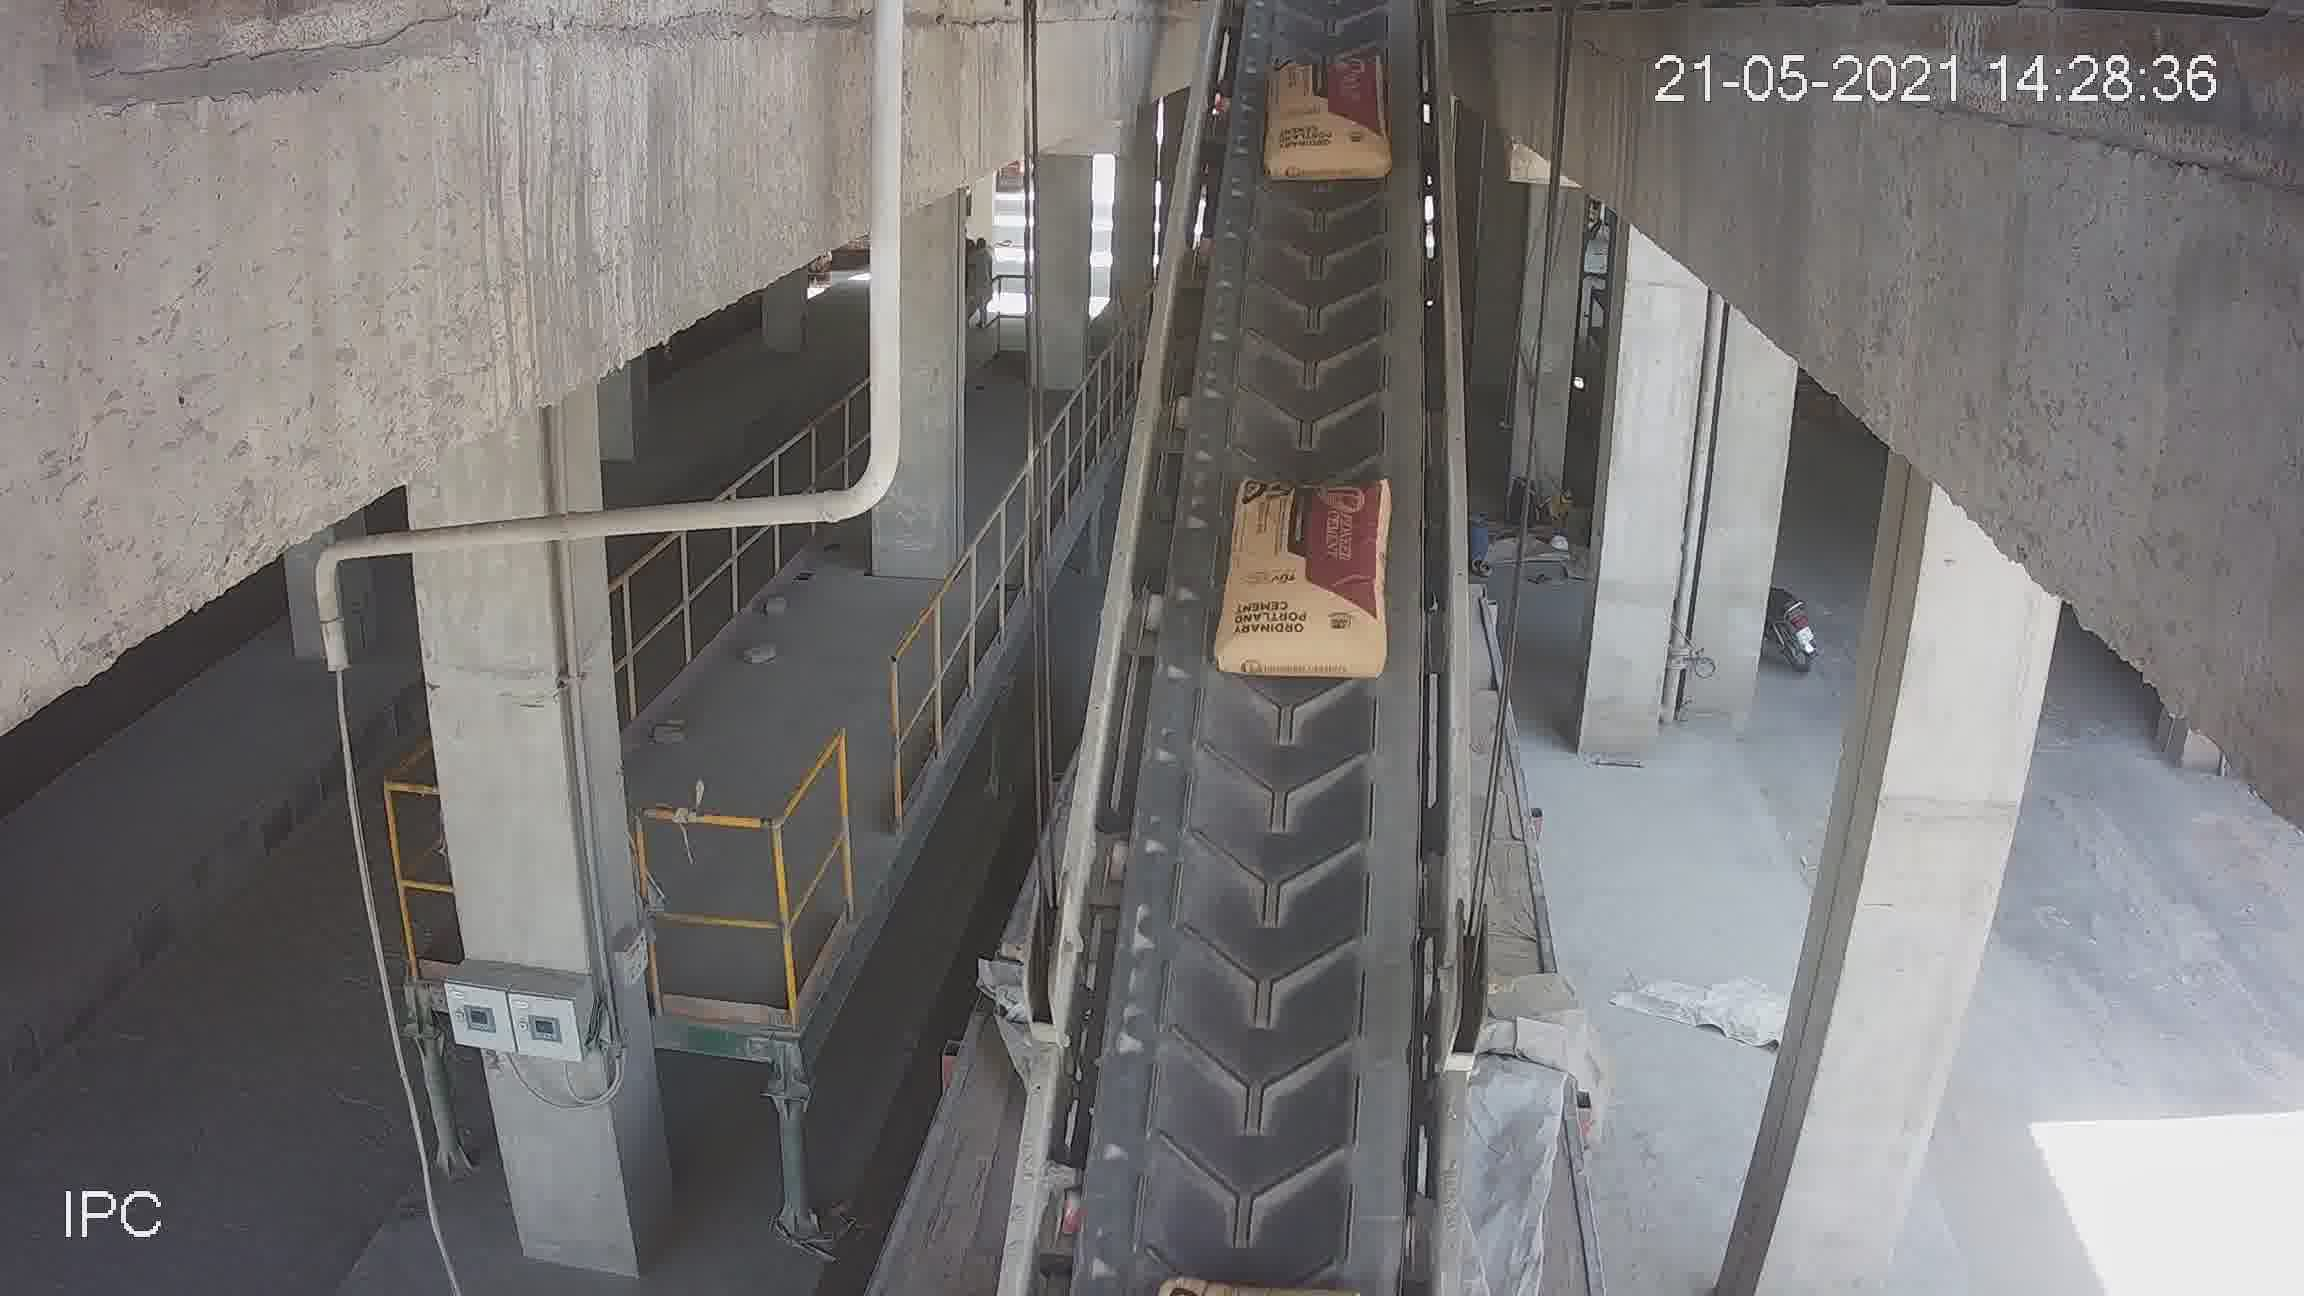bag: (1225, 475, 1388, 677), (1269, 62, 1388, 177)
belt: (1040, 25, 1454, 1256)
